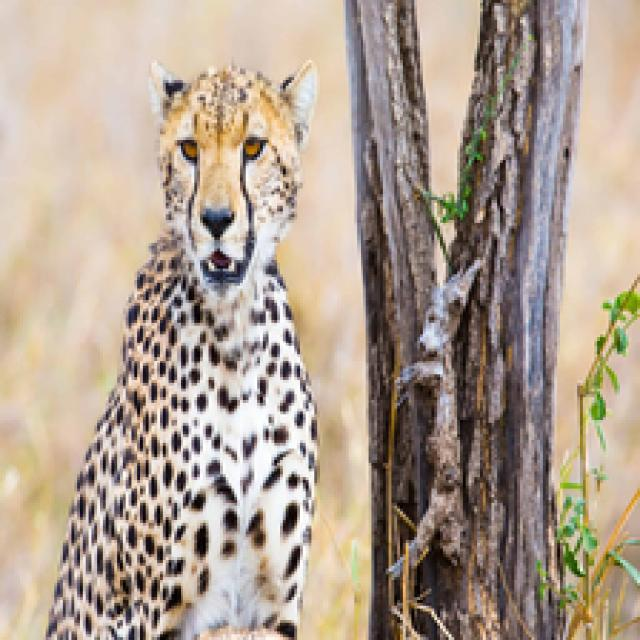cheetah: (28, 47, 333, 640)
